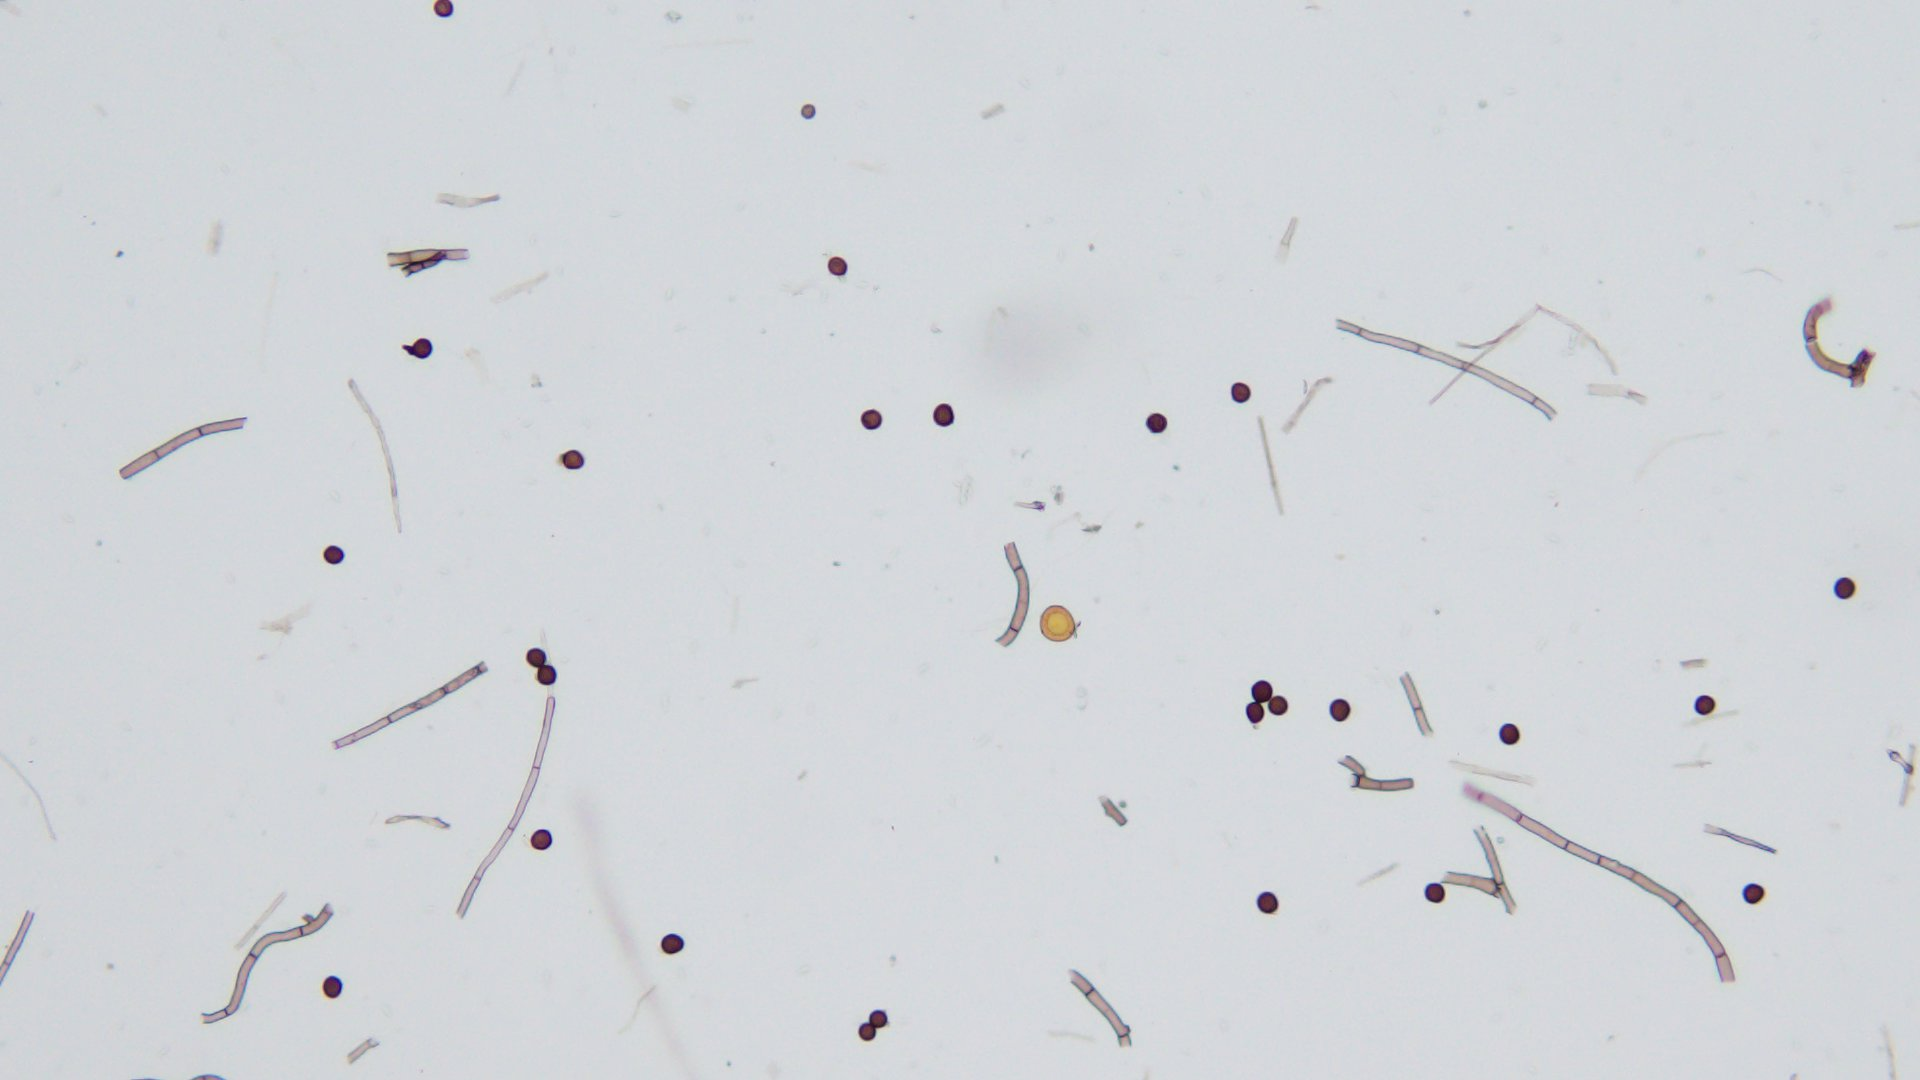shs_spore: (1327, 698, 1353, 723), (858, 407, 884, 433), (931, 404, 957, 427), (527, 828, 554, 851), (659, 932, 686, 955), (320, 977, 345, 1000), (1255, 891, 1279, 914), (1741, 882, 1764, 905), (524, 647, 549, 669), (559, 451, 585, 471), (1498, 723, 1520, 745), (1833, 576, 1855, 599), (1230, 381, 1251, 405), (1249, 680, 1273, 702), (1693, 696, 1718, 716), (411, 338, 433, 360), (1424, 882, 1447, 903), (322, 545, 345, 564), (1145, 413, 1168, 433), (1244, 702, 1263, 724), (537, 665, 556, 684), (433, 1, 455, 18), (1269, 696, 1288, 715), (825, 258, 847, 276), (866, 1010, 889, 1026), (858, 1025, 874, 1040)
xb_spore: (1039, 605, 1077, 640)
